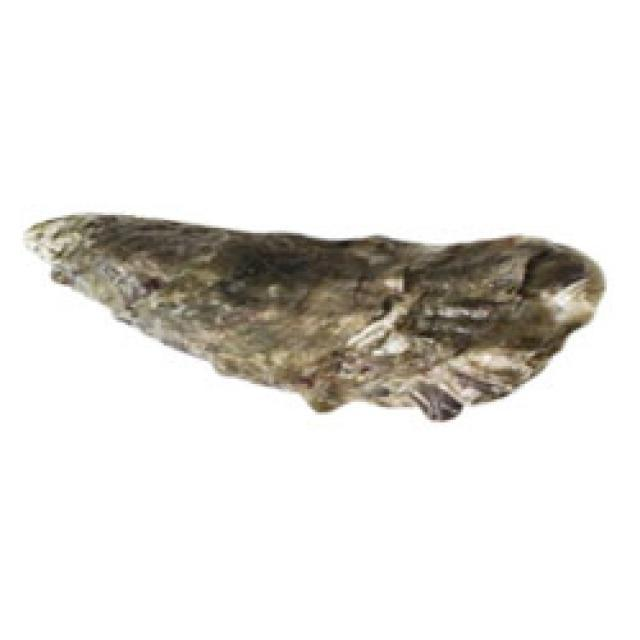Oyster- Indeterminate: (13, 208, 610, 428)
